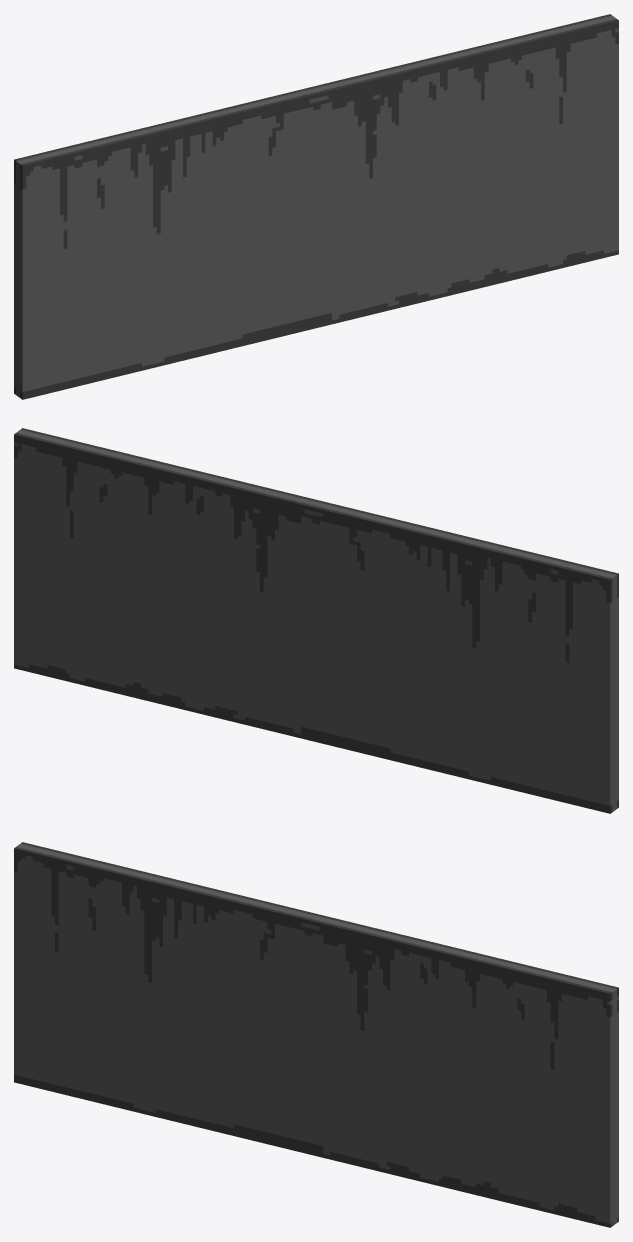
The model's file is LabCarParkWall.obj.
3 renders of one model, top to bottom at view 1: azimuth 30°, elevation 25°; view 2: azimuth 150°, elevation 25°; view 3: azimuth 330°, elevation 25°, orthographic.
Size of the model in its own units: 16 by 6 by 0.4.
Materials: 1 (1 with a texture image).
